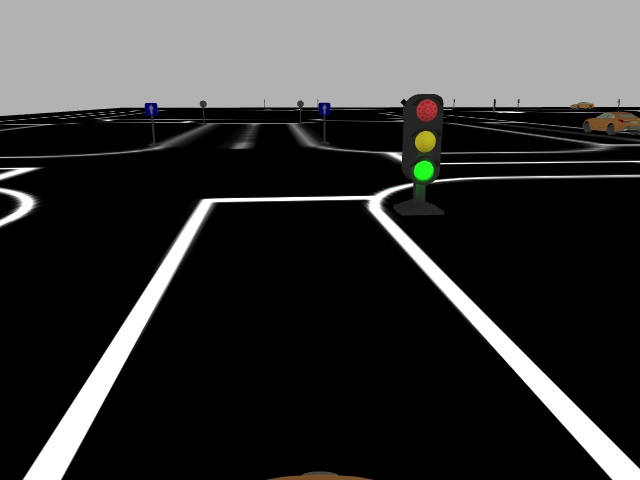green_light: (400, 91, 446, 186)
oneway: (143, 102, 158, 117), (316, 102, 331, 117)
